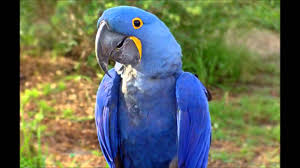guacamaya: (89, 5, 213, 166)
